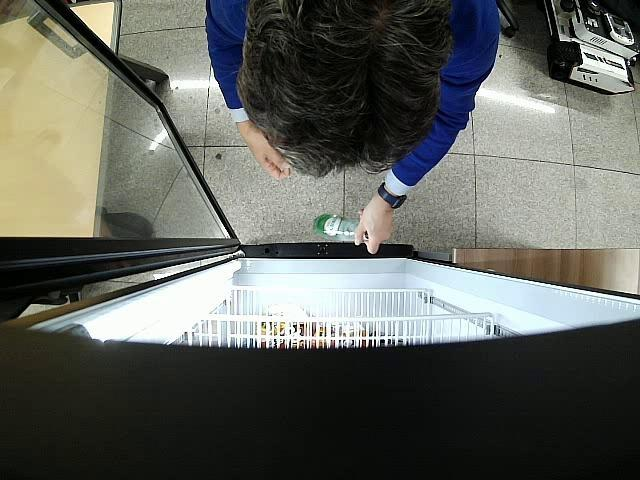18_trevi: (312, 214, 369, 241)
